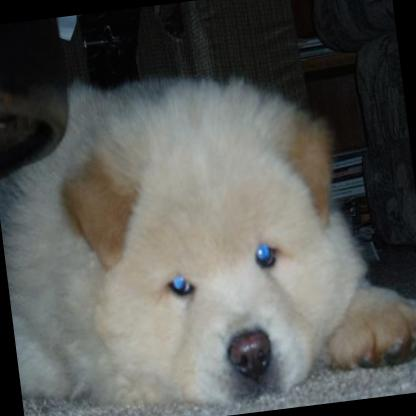chow: (0, 44, 416, 416)
